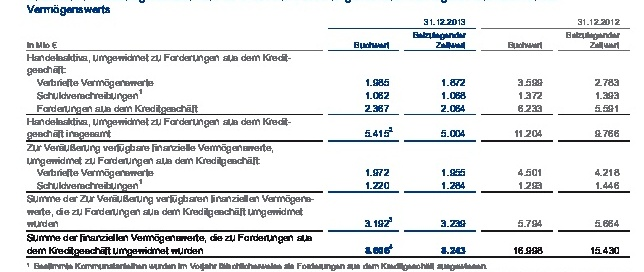table: (0, 0, 644, 272)
